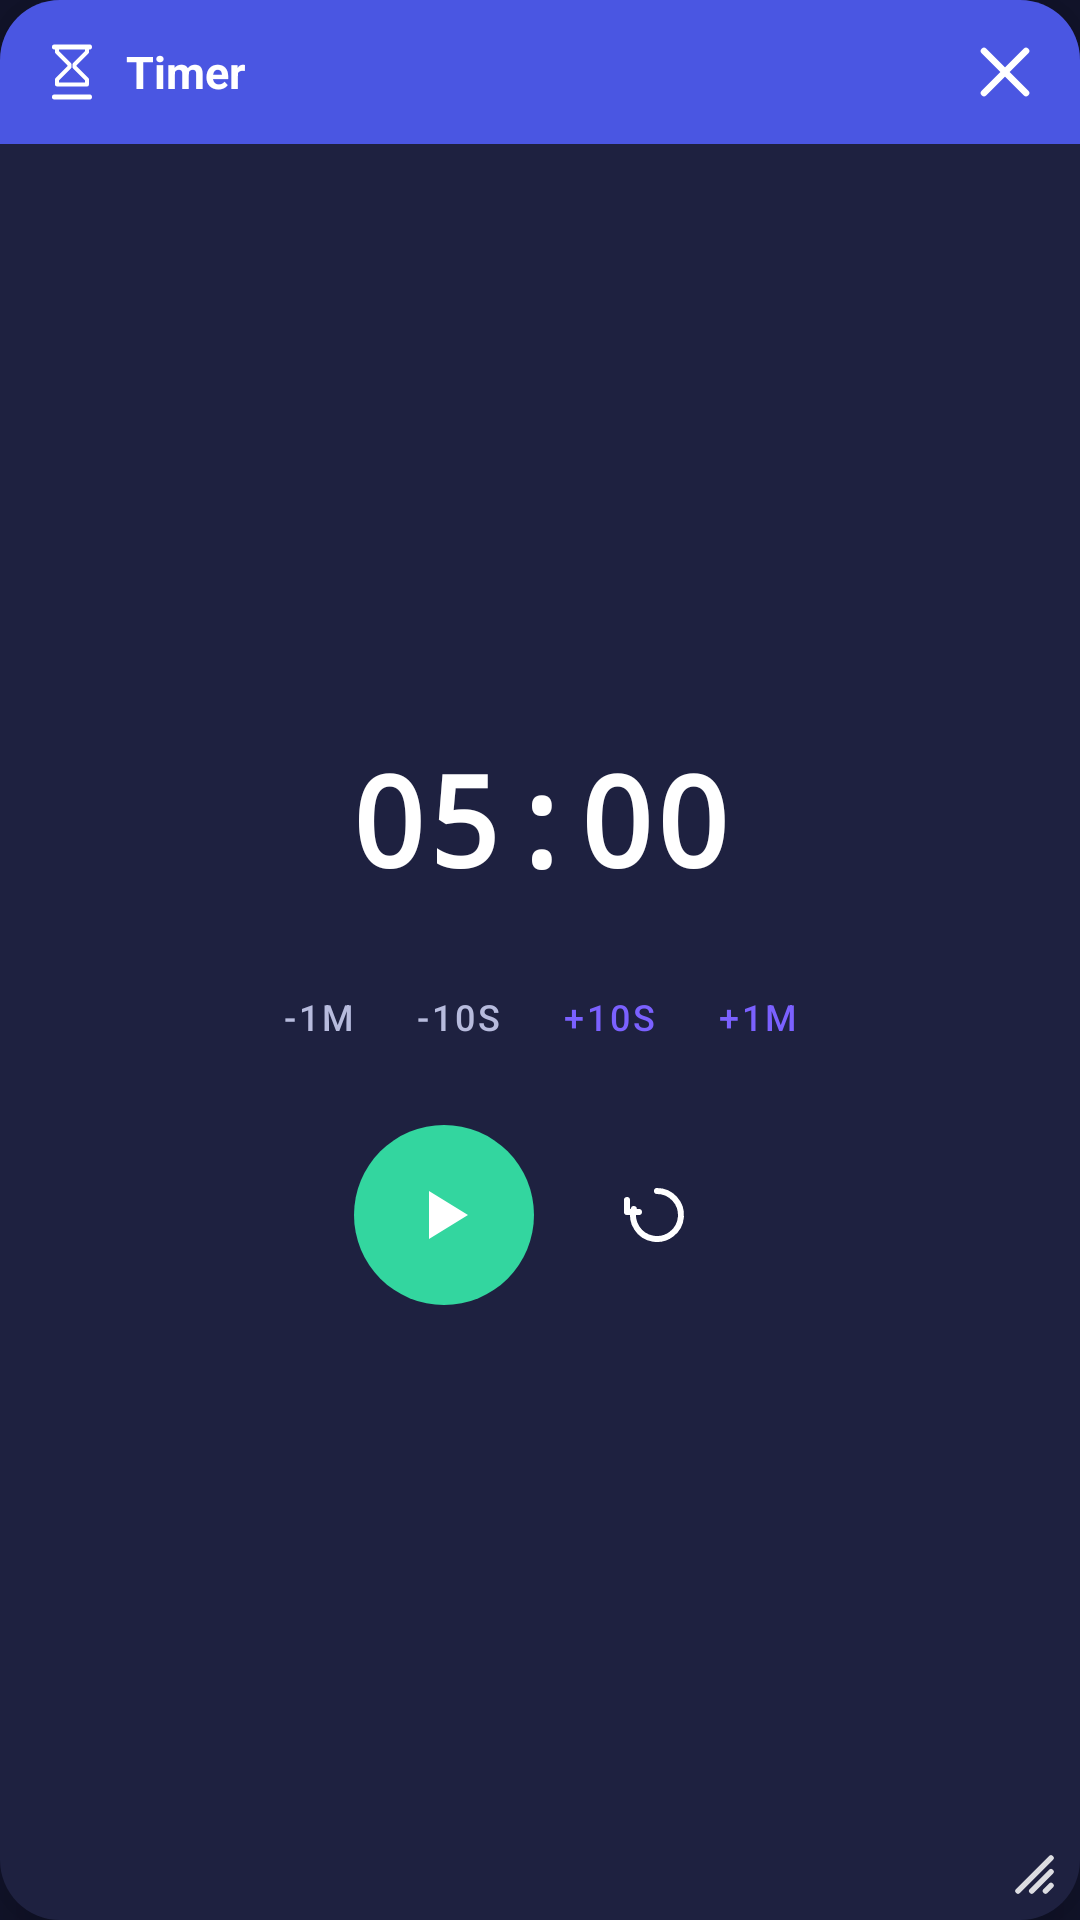

Icon click points for this 1080w x 1920h phone screenshot, format [x,y]:
Close: [1005,72]
Reset: [654,1215]
resize handle: [1034,1874]
Start: [444,1215]
